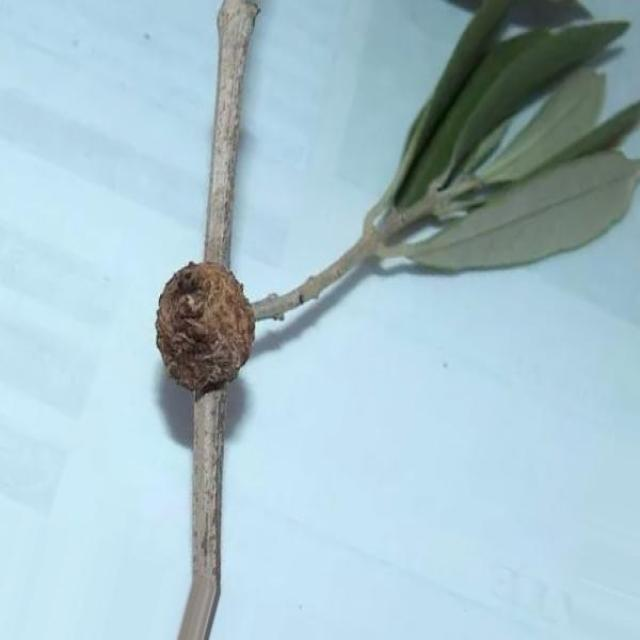Tuberculosis: (156, 261, 256, 401)
